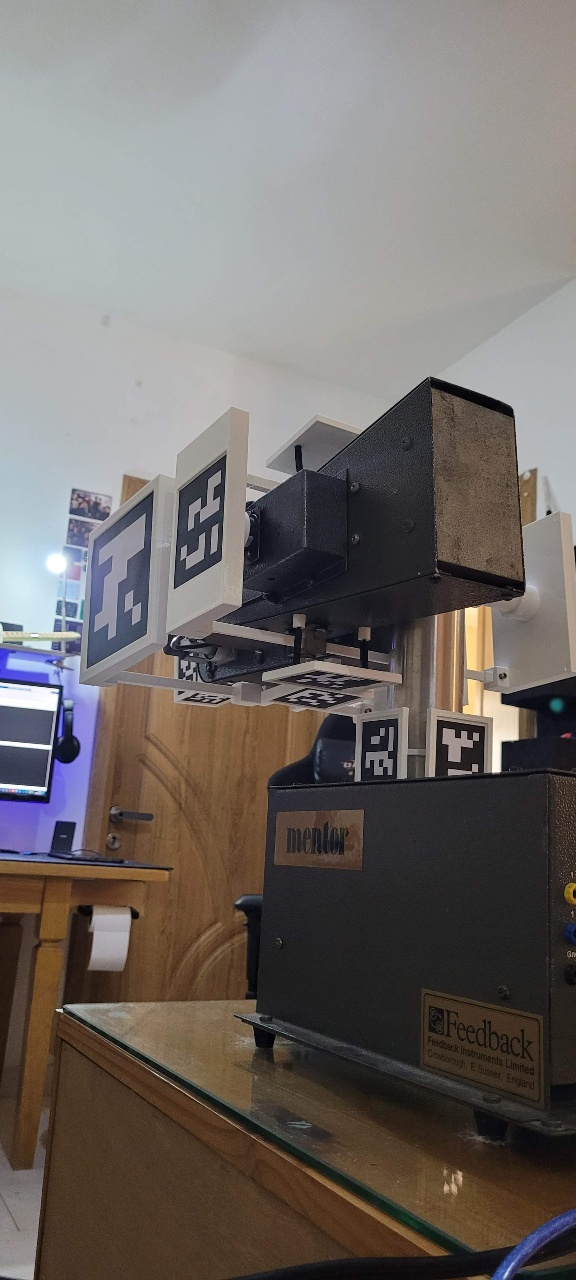Robot: (32, 253, 576, 946)
